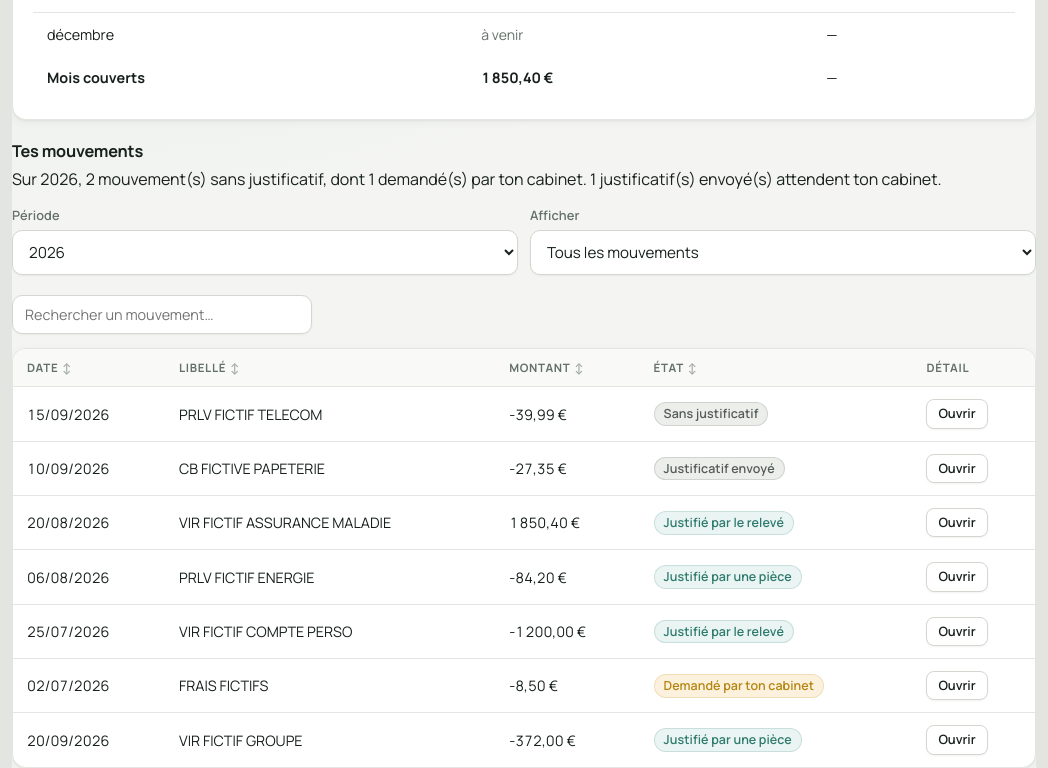
Test case: le relevé lu en entier › un mouvement classé ou écarté n’offre pas d’envoyer une pièce ; il garde son fil
(page scrolled)
Step 1. Click the button "Ouvrir" in the row of "06/08/2026" → x=957, y=577, box [926, 562, 988, 592]
(page scrolled)
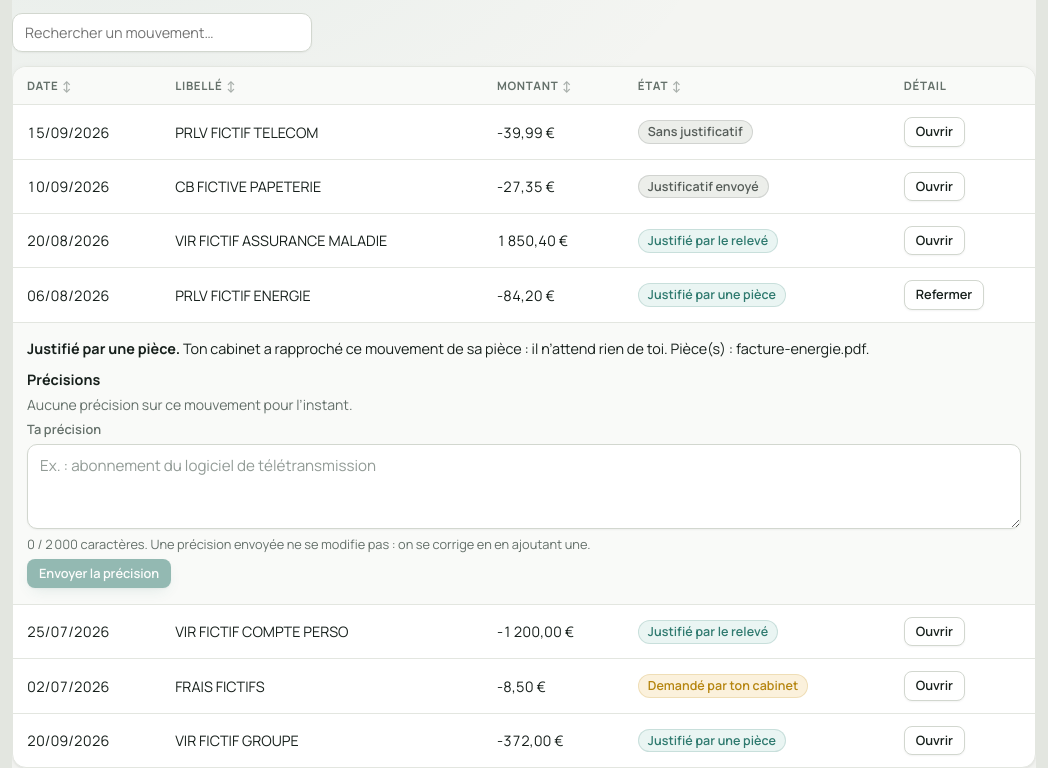
Now the text box labelled "Ta précision" is shown, box [27, 444, 1021, 529]
